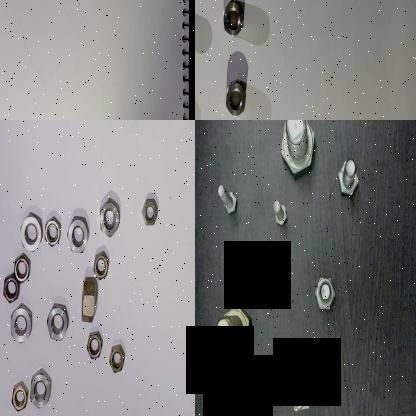Bolts: (213, 290, 254, 368), (276, 120, 314, 180), (284, 360, 316, 416), (213, 171, 242, 219), (312, 266, 336, 317), (335, 154, 360, 200), (269, 198, 293, 232)
NUTS: (7, 300, 37, 346), (26, 366, 54, 414), (222, 76, 250, 119), (66, 212, 91, 258), (46, 298, 70, 344), (98, 198, 124, 240), (18, 210, 42, 254), (80, 268, 97, 328), (221, 0, 247, 39), (106, 340, 128, 376), (88, 251, 112, 284), (9, 377, 29, 415), (139, 195, 161, 228), (12, 252, 34, 285), (0, 274, 22, 306), (85, 328, 104, 362), (43, 216, 62, 250)
